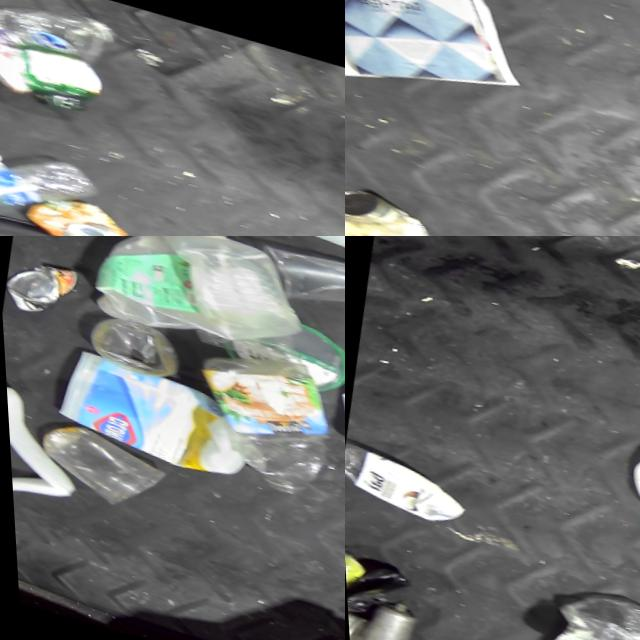can: (23, 180, 132, 236), (0, 247, 77, 317), (345, 179, 431, 236), (345, 601, 358, 640)
milk_jug: (69, 236, 309, 362)
non_white_jug: (60, 352, 255, 483)
plastic_bottle: (189, 348, 344, 499), (345, 425, 471, 534), (0, 120, 88, 236)
